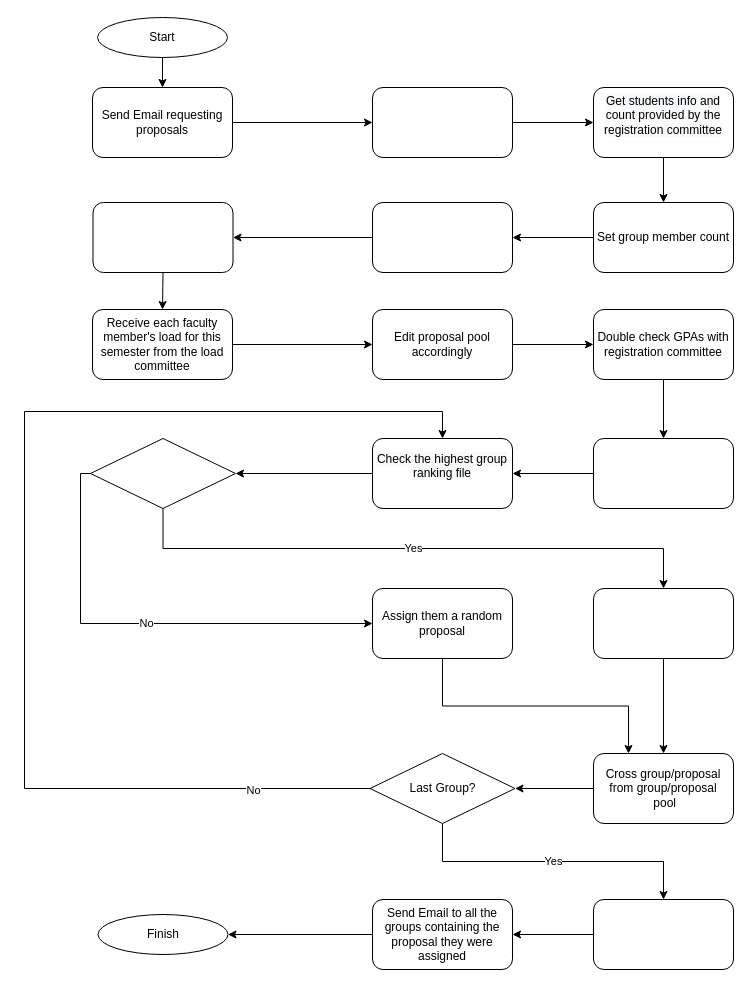
The diagram is 751 pixels wide and 987 high, and some of its shapes have lost their labels. The shapes that lost their labels are listed below. From the top down, each one's centre as x and y in pixels, then its label:
the point at 442,122: Make proposal pool document
the point at 162,237: Receive Emails from groups containing GPAs and rankings
the point at 442,237: Send Email to students asking them to make groups and rank proposals
the point at 163,473: At least 1 of 10 is available?
the point at 663,473: Rank groups from highes to lowest based on their average GPA
the point at 663,623: Assign them to their first available ranked proposal
the point at 663,934: Inform registration and load committees
